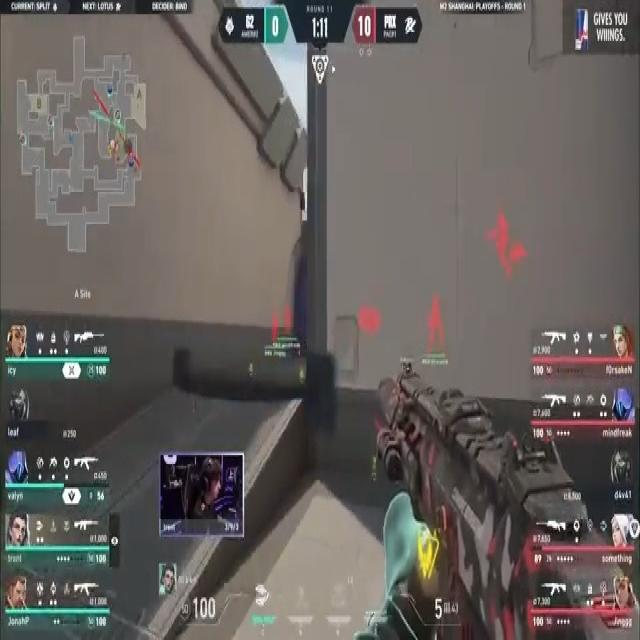enemy behind wall: (423, 289, 449, 355), (489, 208, 511, 270)
